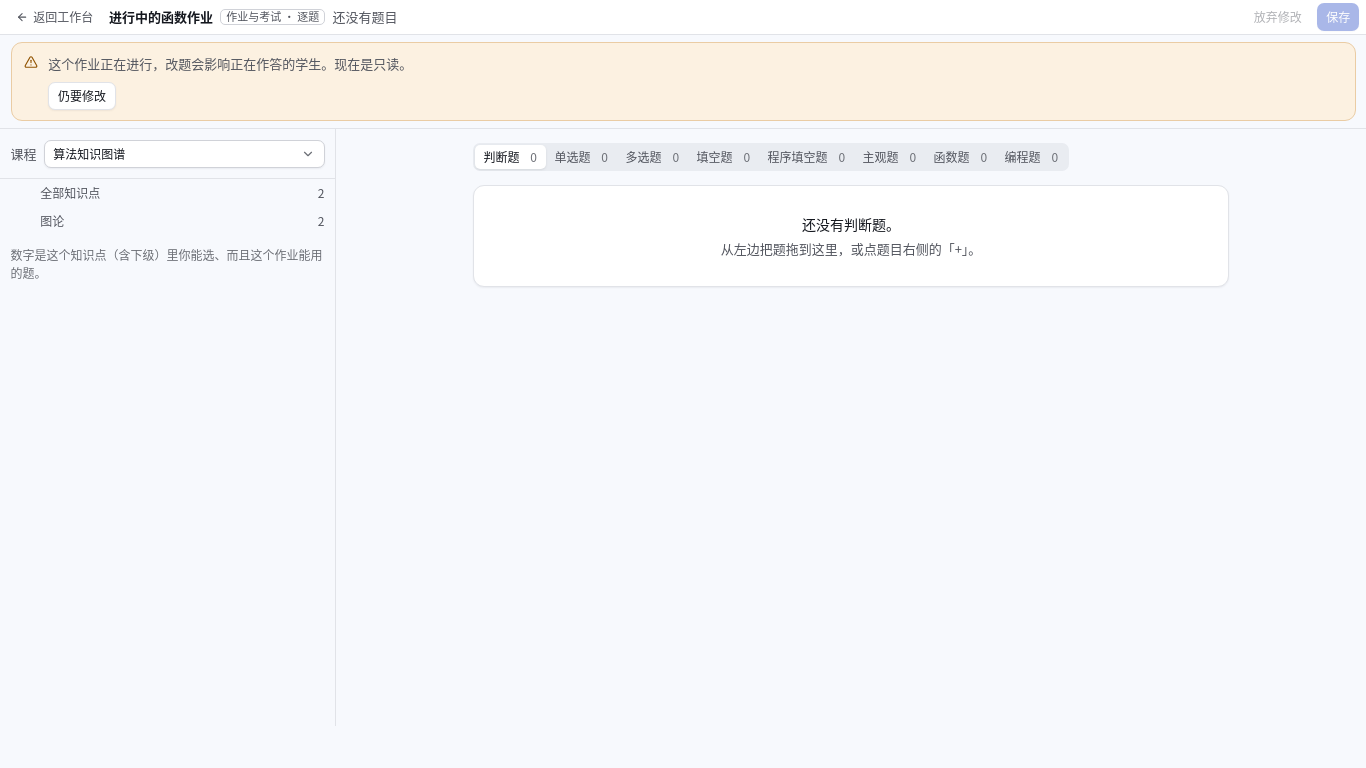
teach compose page › shows a read-only banner for a running homework and hides it after confirming edits
The image size is (1366, 768).
Expected: the text "这个作业正在进行，改题会影响正在作答的学生。现在是只读。" is shown, [48, 54, 412, 72]
Expected: the button "保存" is disabled, [1318, 3, 1359, 31]
Click the button "仍要修改" at {"x": 82, "y": 96}, box [48, 82, 116, 110]
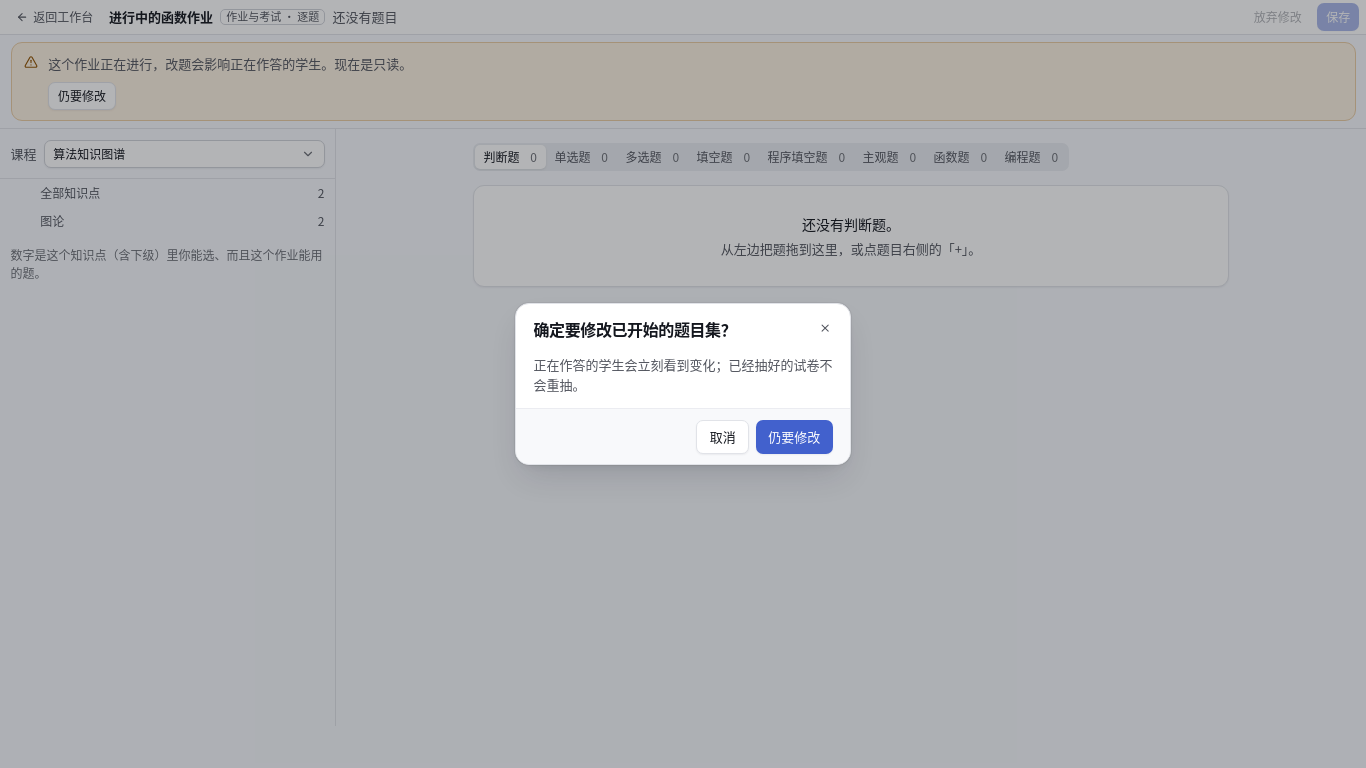
Expected: the text "正在作答的学生会立刻看到变化；已经抽好的试卷不会重抽。" is shown, [534, 355, 832, 394]
Click the button "仍要修改" at {"x": 794, "y": 437}, box [756, 420, 832, 454]
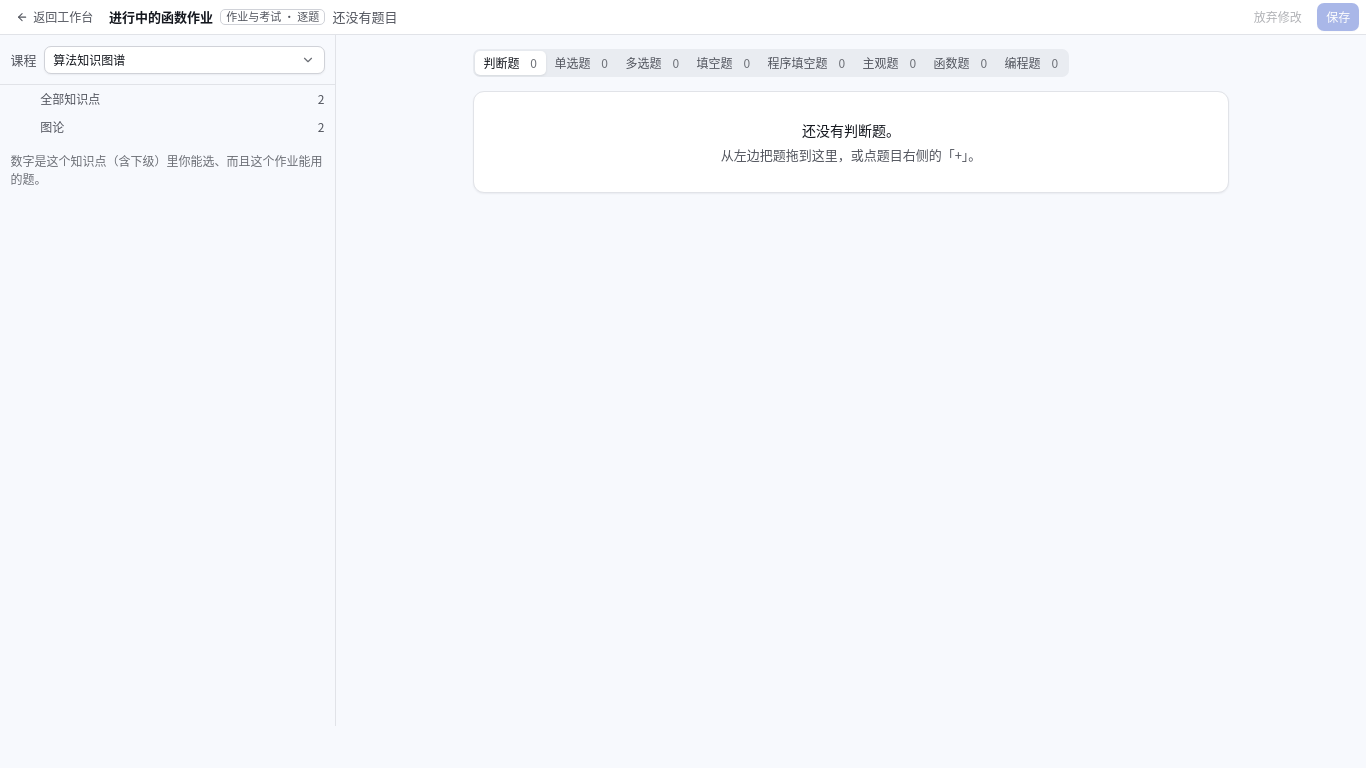
Expected: the text "这个作业正在进行，改题会影响正在作答的学生。现在是只读。" is gone
Click the button "图论" at {"x": 52, "y": 126}, box [32, 113, 314, 141]
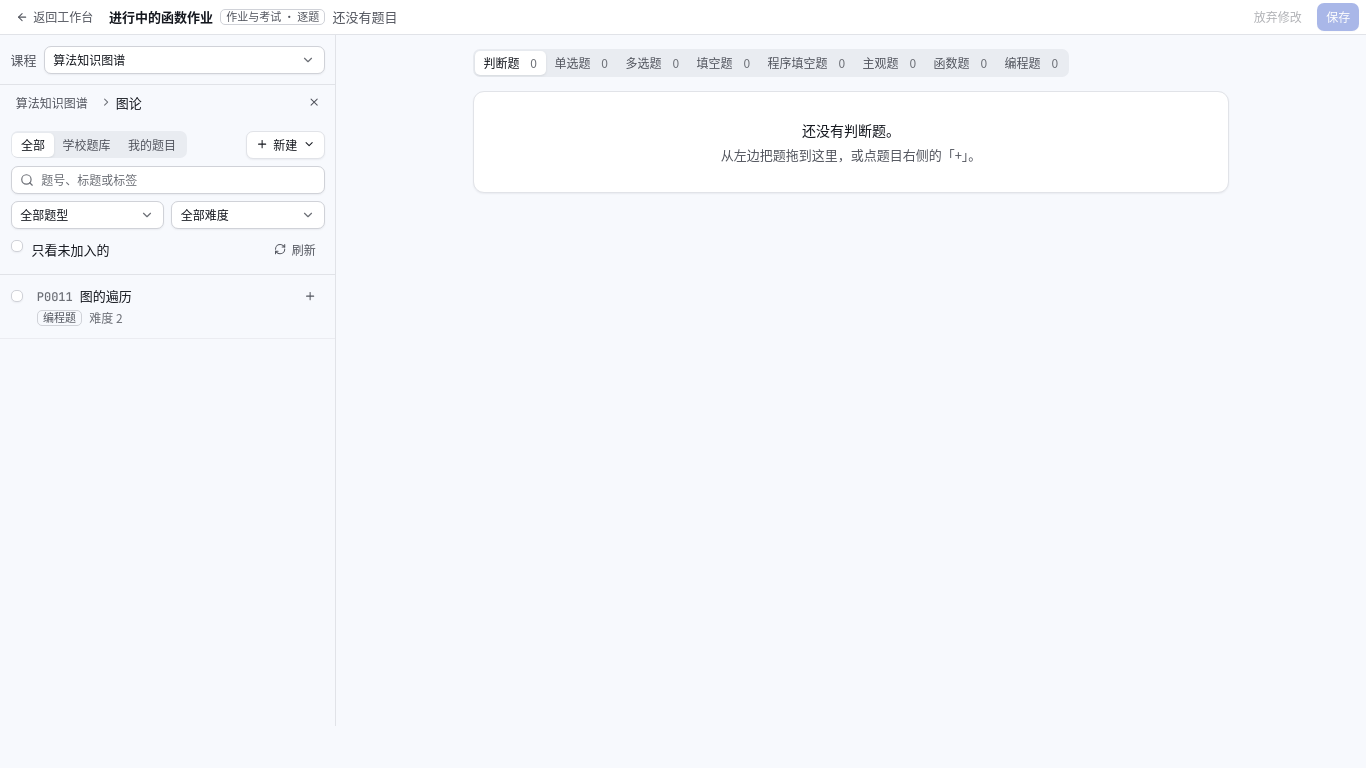
Click the button named "加入 P0011" at {"x": 310, "y": 296}, box [296, 282, 324, 310]
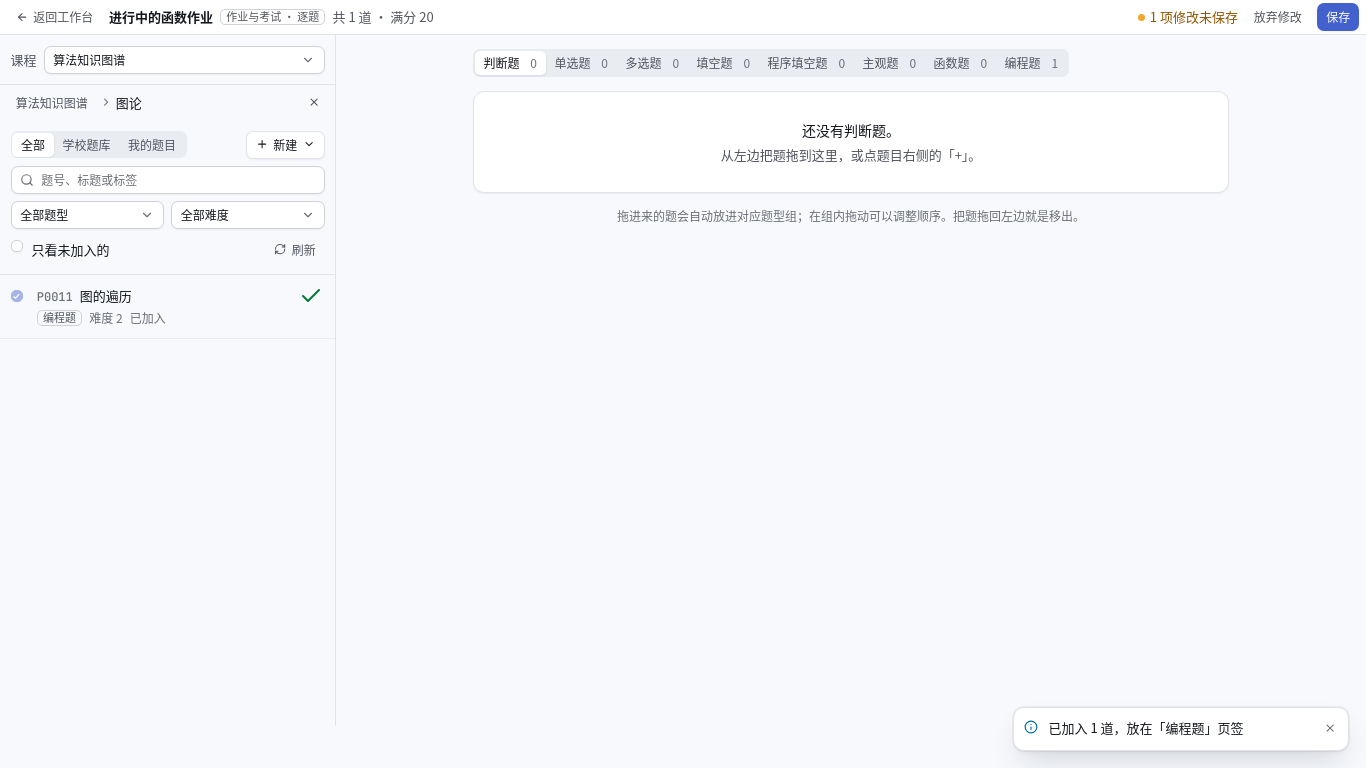
Expected: the element showing "1 项修改未保存" is shown, [1138, 7, 1238, 27]
Expected: the button "保存" is enabled, [1318, 3, 1359, 31]
